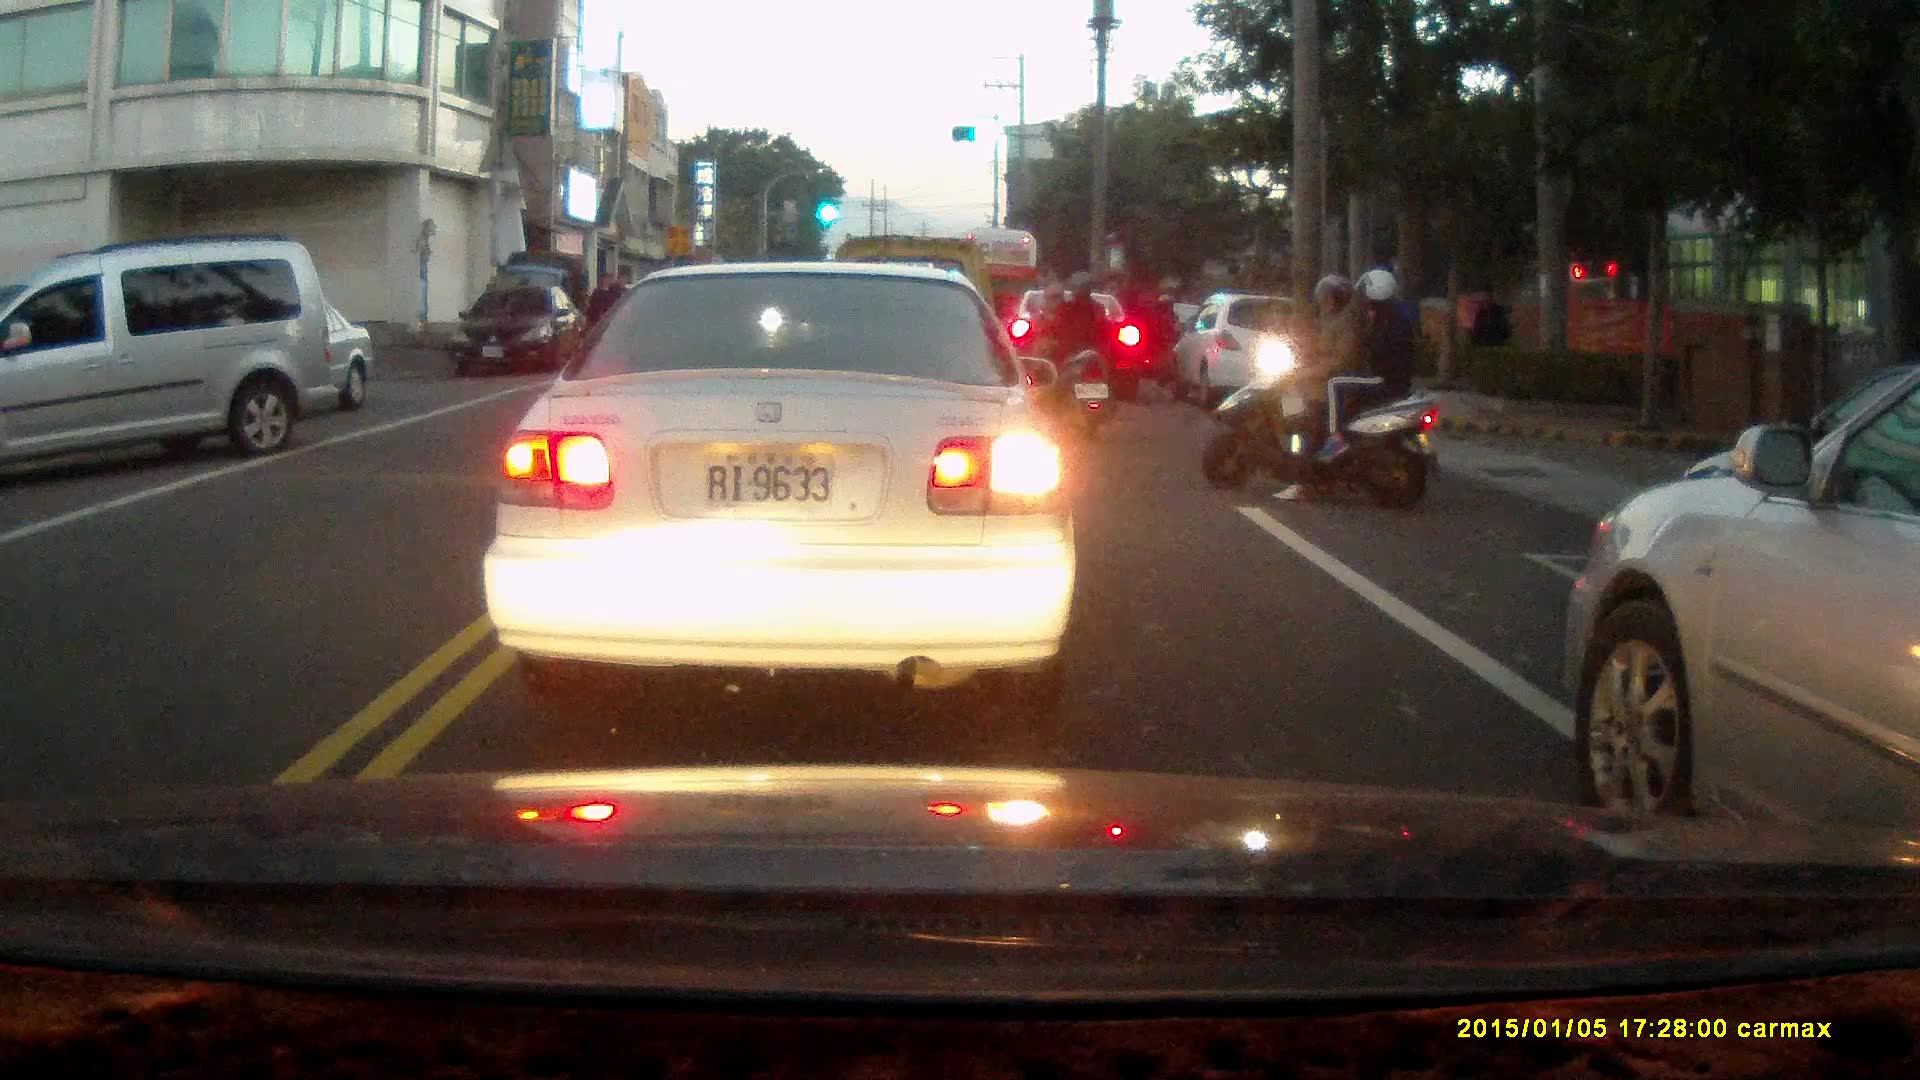pedestrian: (1466, 279, 1511, 377), (584, 273, 619, 364)
rider: (1195, 269, 1438, 510), (1031, 267, 1113, 446), (1145, 294, 1180, 389)
vehicle: (485, 259, 1076, 693), (1557, 343, 1919, 853), (1, 243, 350, 481), (1168, 293, 1326, 410), (1007, 288, 1143, 399), (455, 284, 584, 380)
